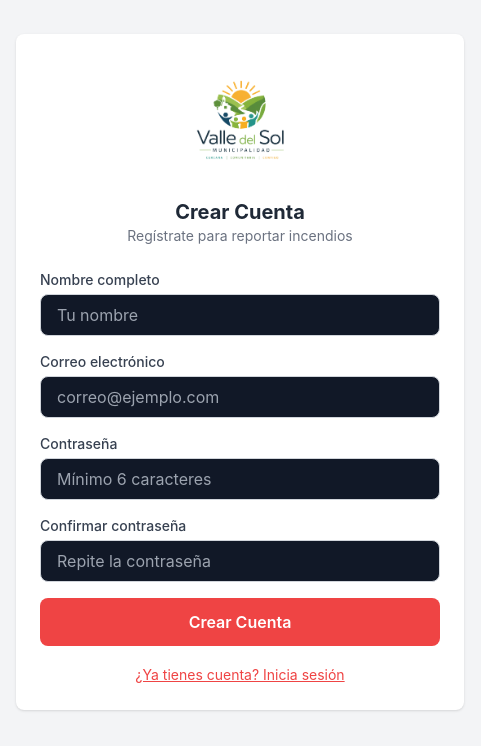
Test: Registro Page › shows error when password is too short
Type "Juan" into the field with placeholder "Tu nombre". click: (240, 315)
box: 40,294 -> 440,336
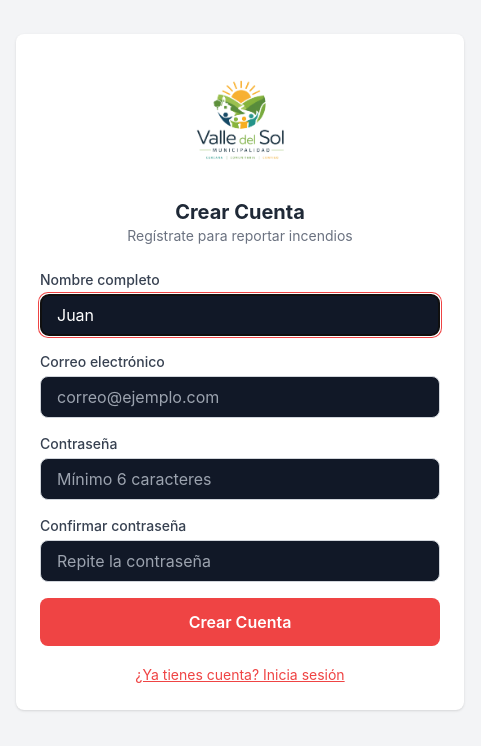
Type "j@j.cl" into the field with placeholder "correo@ejemplo.com". click: (240, 397)
box: 40,376 -> 440,418
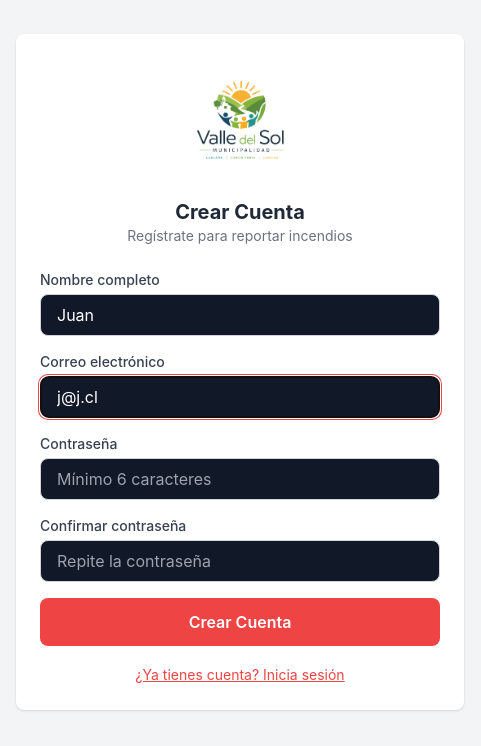
Type "123" into the password field with placeholder "Mínimo 6 caracteres". click: (240, 479)
box: 40,458 -> 440,500
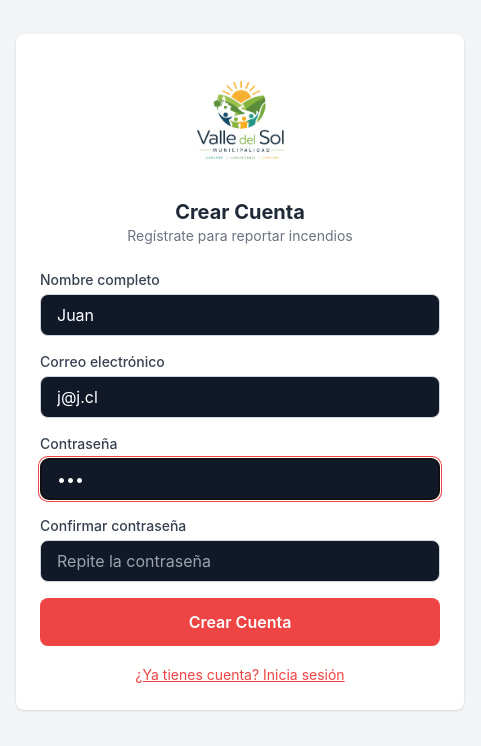
Type "123" into the password field with placeholder "Repite la contraseña". click: (240, 561)
box: 40,540 -> 440,582
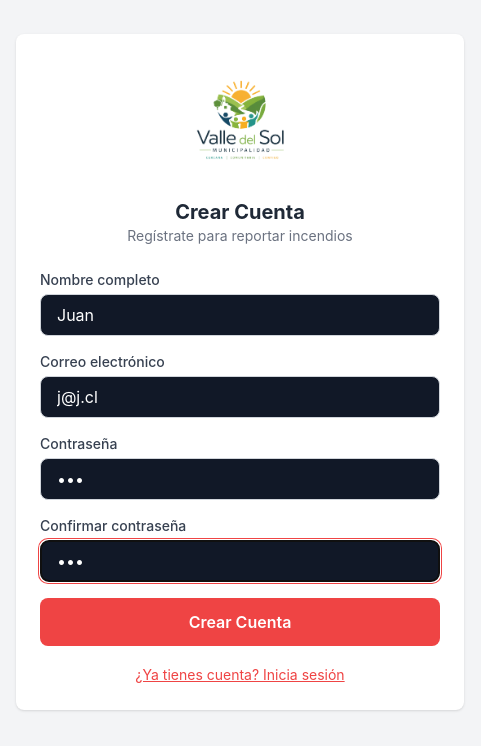
Submit the form "Crear Cuenta", box 40,270 -> 440,646
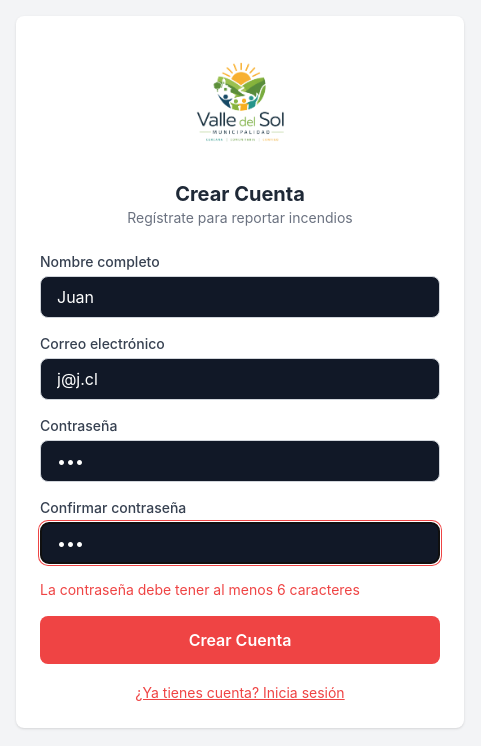
Expected: the text "La contraseña debe tener al menos 6 caracteres" is shown, 40,581 -> 360,598
